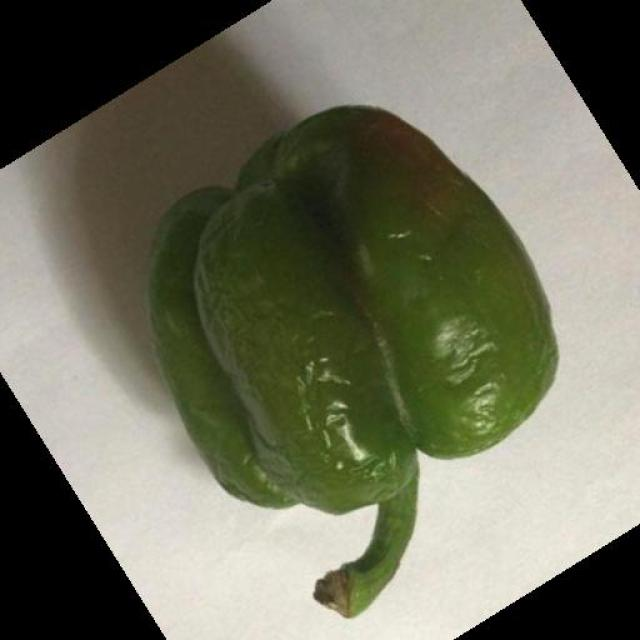Stale_Capsicum: (162, 109, 552, 517)
